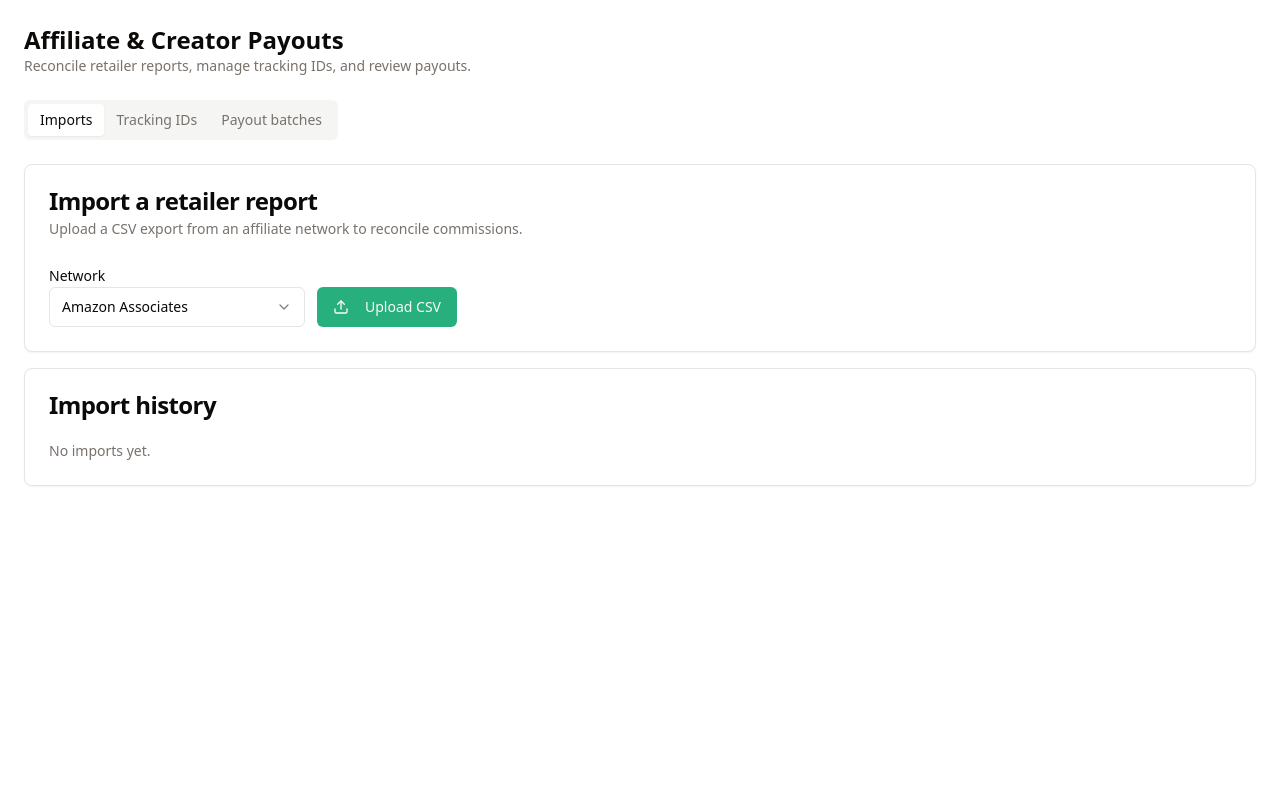
Test: AffiliateAdmin › Tracking IDs tab › shows available/assigned counts and the pool table
Click the tab "Tracking IDs". click: (157, 120)
box: [104,104,209,136]
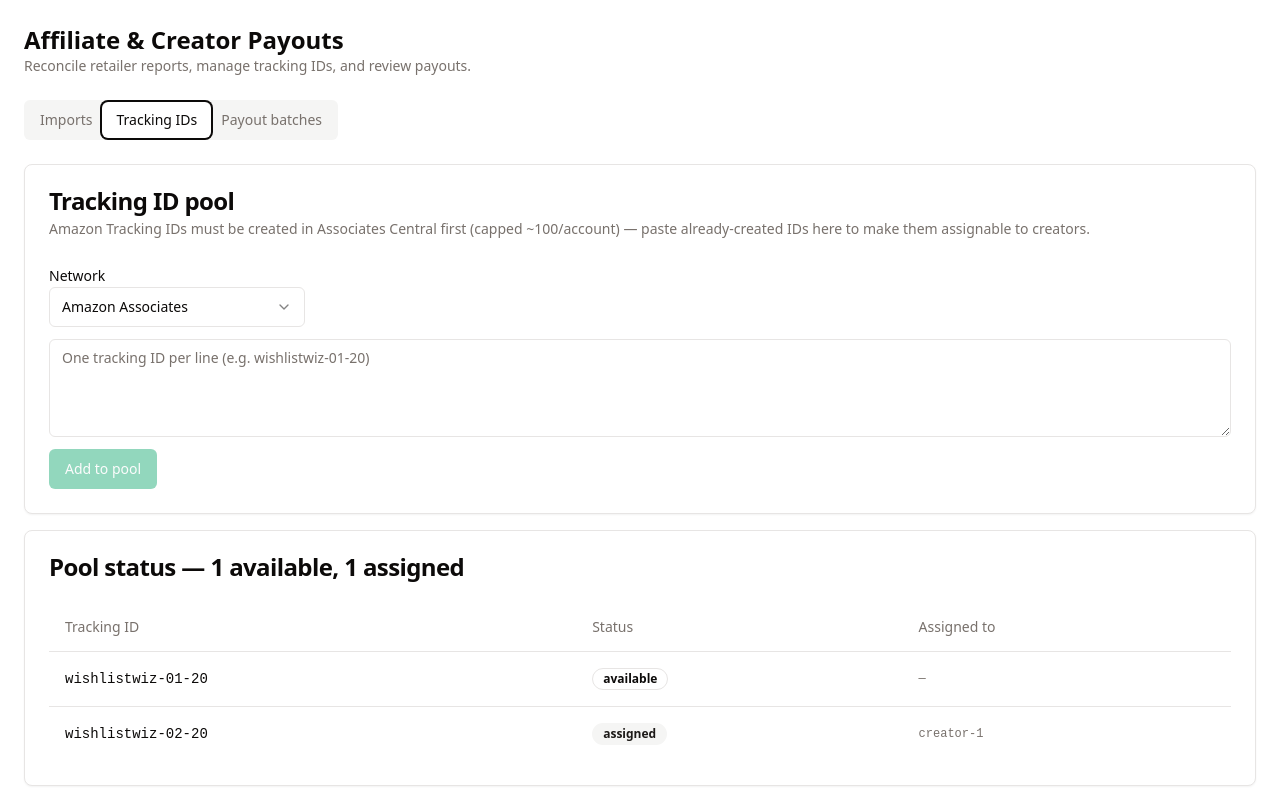
Now the text "Pool status — 1 available, 1 assigned" is shown, box [49,550,464,583]
Now the text "wishlistwiz-01-20" is shown, box [49,651,576,706]
Now the text "creator-1" is shown, box [903,706,1231,760]
